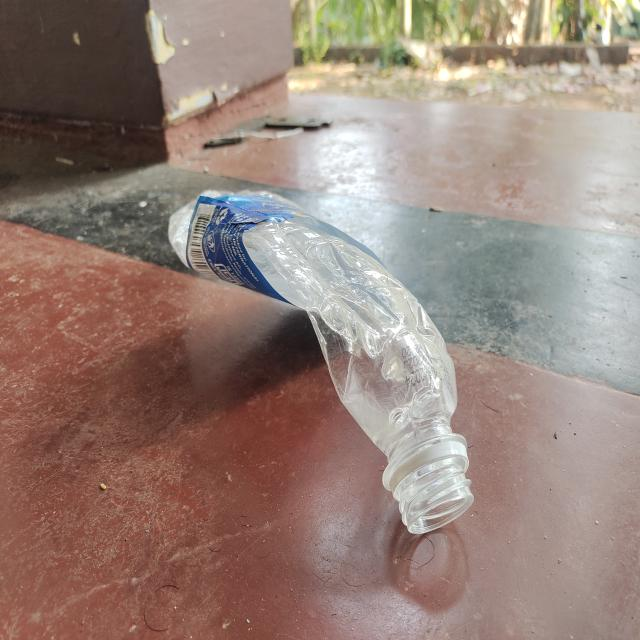plastic: (164, 185, 476, 543)
